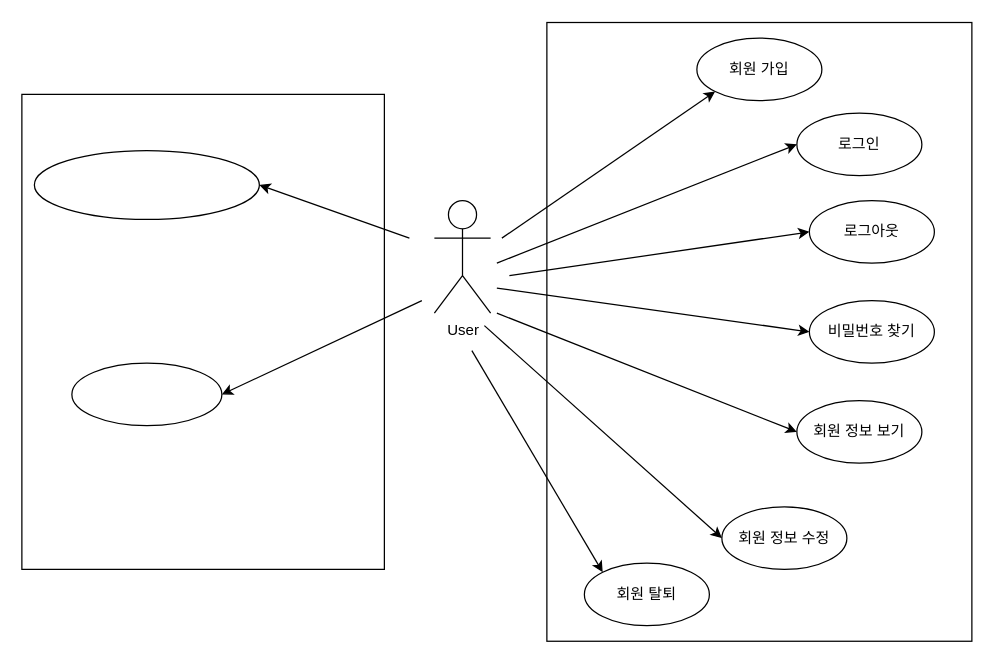
This 994x663 diagram has some shape labels left out. The shapes that lost their labels are listed below. From the top down, each one's centre as x and y in pixels, then its label:
At (146,184): "동별 실거래가 조회".
At (146,394): "동별 지도 위치 관리".
